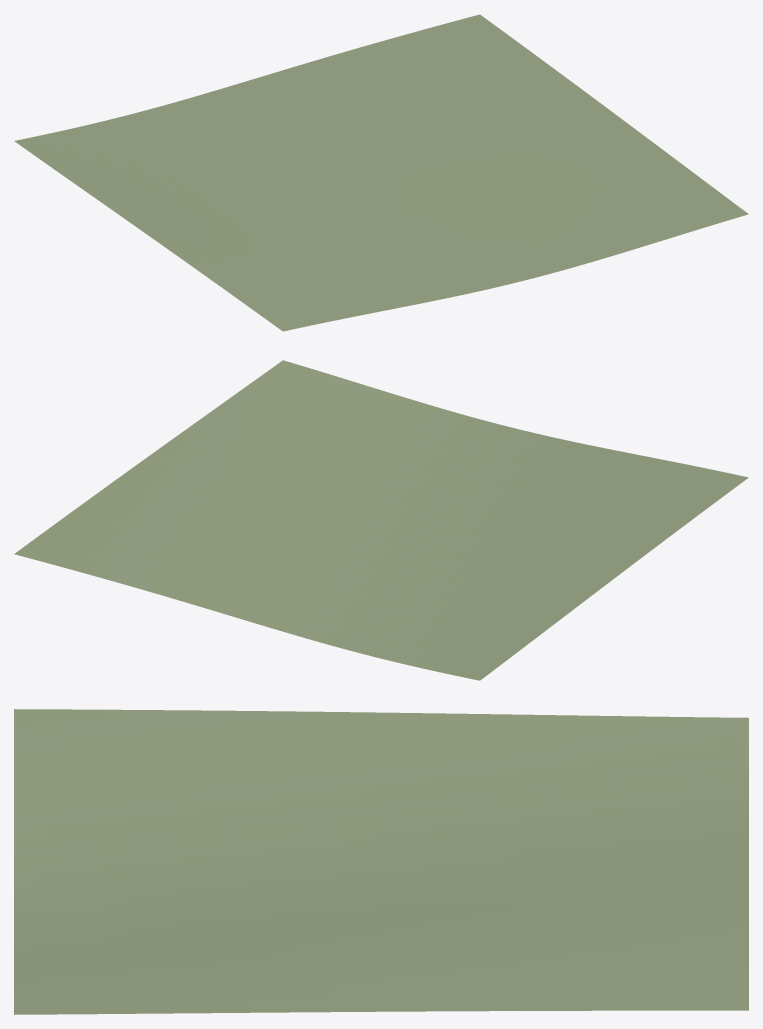
File: desert-9-16.glb
3 views of the same model, one above another, from view 1: azimuth 30°, elevation 25°; view 2: azimuth 150°, elevation 25°; view 3: azimuth 270°, elevation 25° (orthographic). The views are drawn at different scales.
Visible parts, largest first — view 1: desert-9-16; view 2: desert-9-16; view 3: desert-9-16.
Part boxes in pixels (x1,y1,x2,y2): desert-9-16: (14,14,748,331); desert-9-16: (14,360,748,680); desert-9-16: (14,709,748,1014).
Bounding box in the file's own units: 512 × 15.73 × 512.
